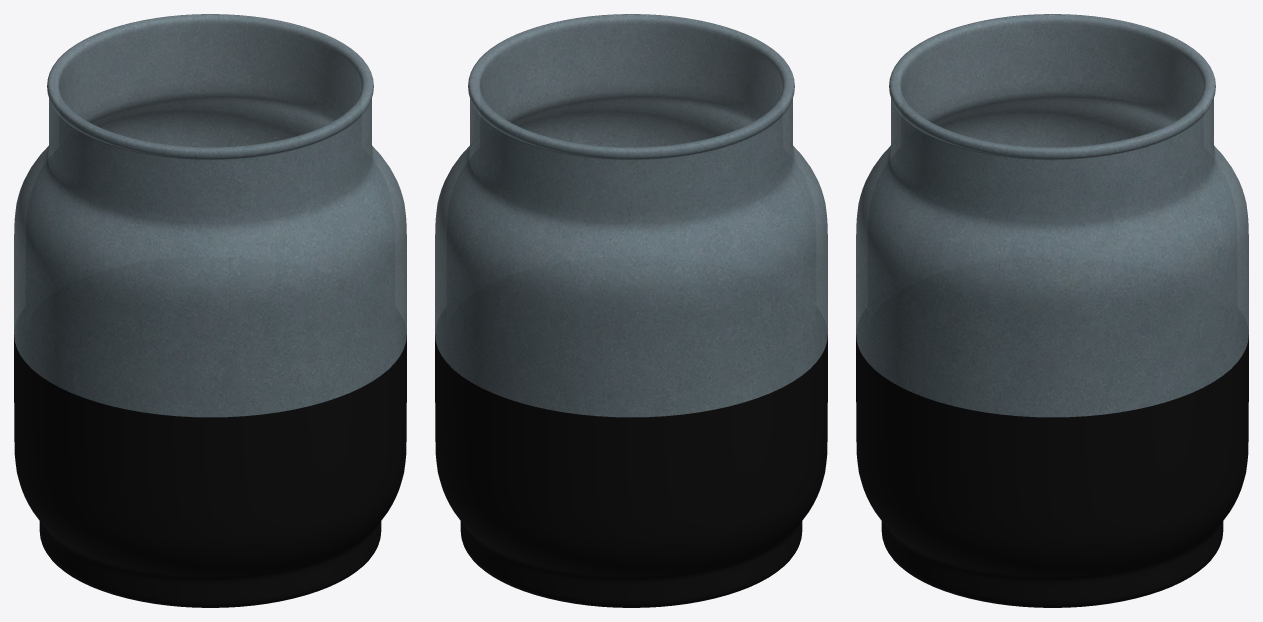
The model's file is hjulmoja_ozdoba_stoowa_led_60621940.glb.
3 renders of one model, left to right at view 1: azimuth 30°, elevation 25°; view 2: azimuth 150°, elevation 25°; view 3: azimuth 270°, elevation 25°, orthographic.
Parts seen in each view (by area): view 1: hjulmoja_ozdoba_stoowa_led_60621940; view 2: hjulmoja_ozdoba_stoowa_led_60621940; view 3: hjulmoja_ozdoba_stoowa_led_60621940.
Boxes of the visible parts, <box> form: hjulmoja_ozdoba_stoowa_led_60621940: <box>14,14,406,607</box>; hjulmoja_ozdoba_stoowa_led_60621940: <box>435,14,827,607</box>; hjulmoja_ozdoba_stoowa_led_60621940: <box>856,14,1248,607</box>.
Bounding box in the file's own units: 0.08 × 0.1032 × 0.08.
Materials: 4 (1 with a texture image).
